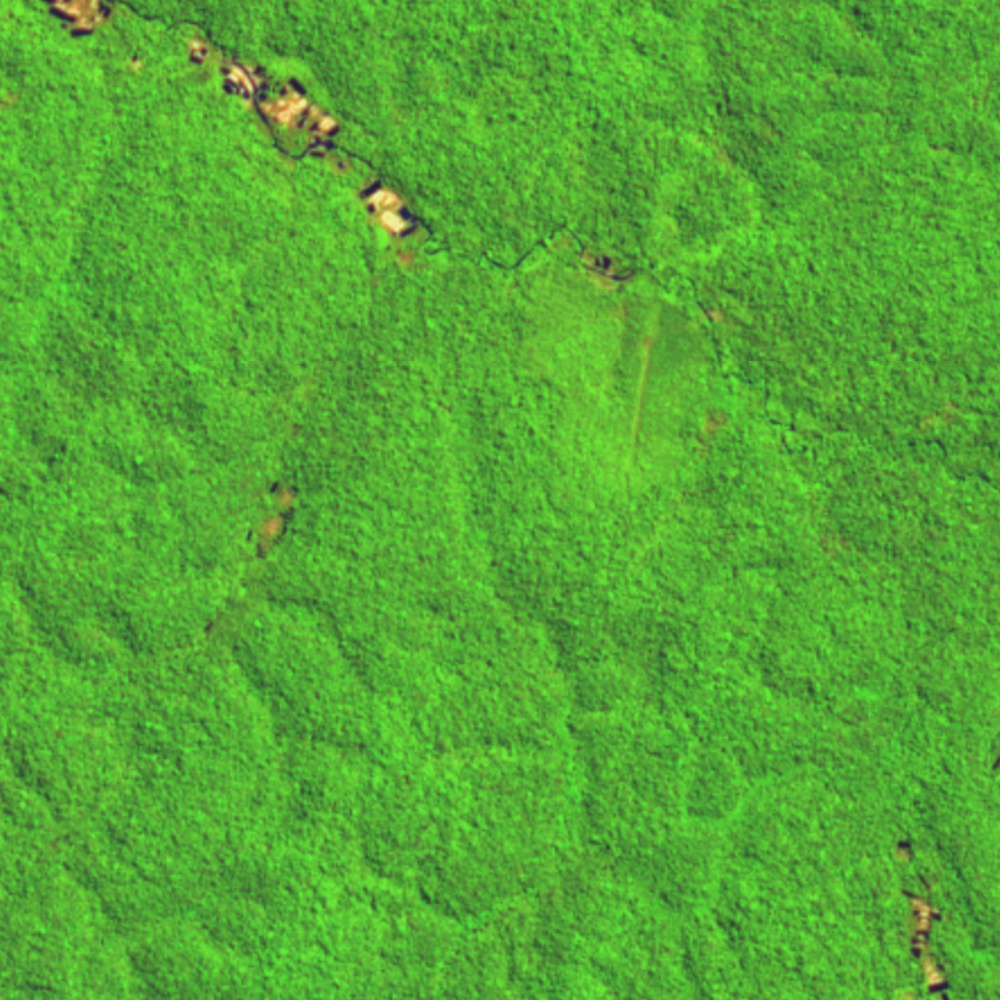illegal: (175, 26, 353, 184), (886, 835, 963, 999), (354, 166, 438, 281), (551, 221, 642, 297), (237, 471, 305, 568), (37, 1, 119, 48)
